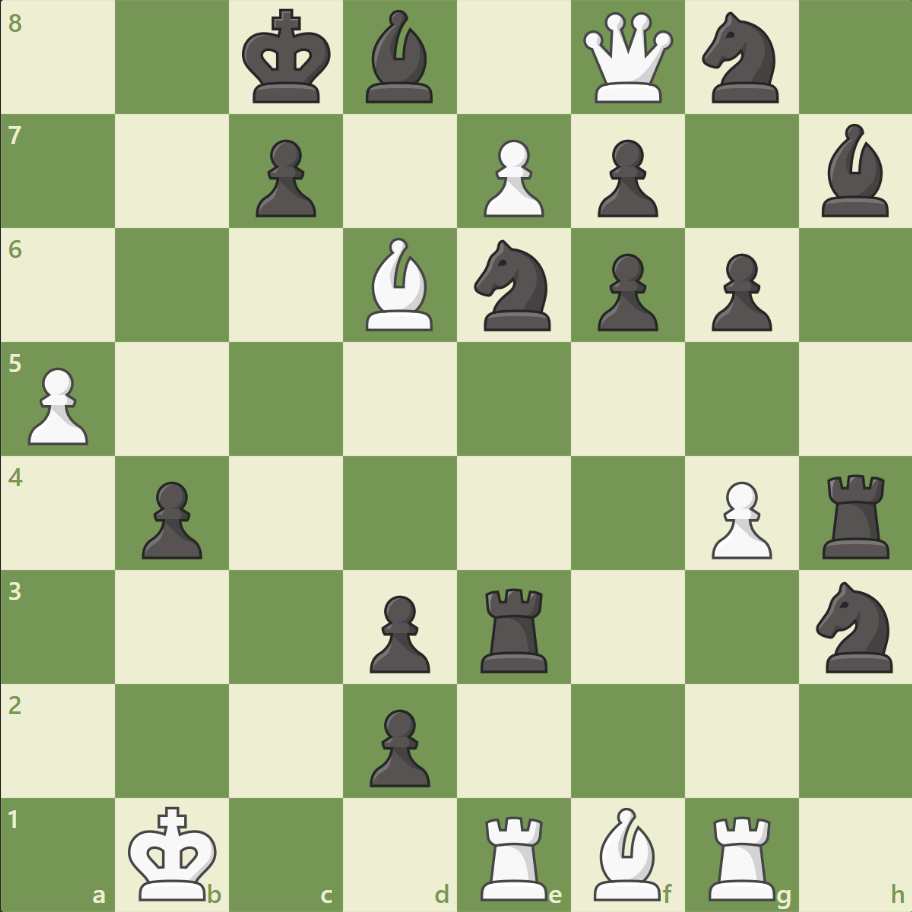B: (358, 233, 442, 336), (585, 801, 669, 904)
K: (124, 798, 224, 906)
P: (474, 132, 549, 223), (20, 359, 95, 450), (701, 473, 776, 564)
Q: (578, 9, 677, 108)
R: (473, 806, 556, 904), (700, 806, 783, 904)
b: (358, 6, 442, 109), (812, 120, 896, 222)
k: (238, 4, 338, 112)
n: (692, 7, 789, 110), (465, 234, 562, 337), (806, 575, 903, 677)
p: (247, 132, 322, 223), (701, 246, 776, 337), (133, 473, 208, 564), (588, 132, 662, 223), (588, 246, 662, 337), (361, 586, 435, 677), (361, 700, 435, 791)
r: (814, 466, 897, 563), (473, 579, 556, 676)
